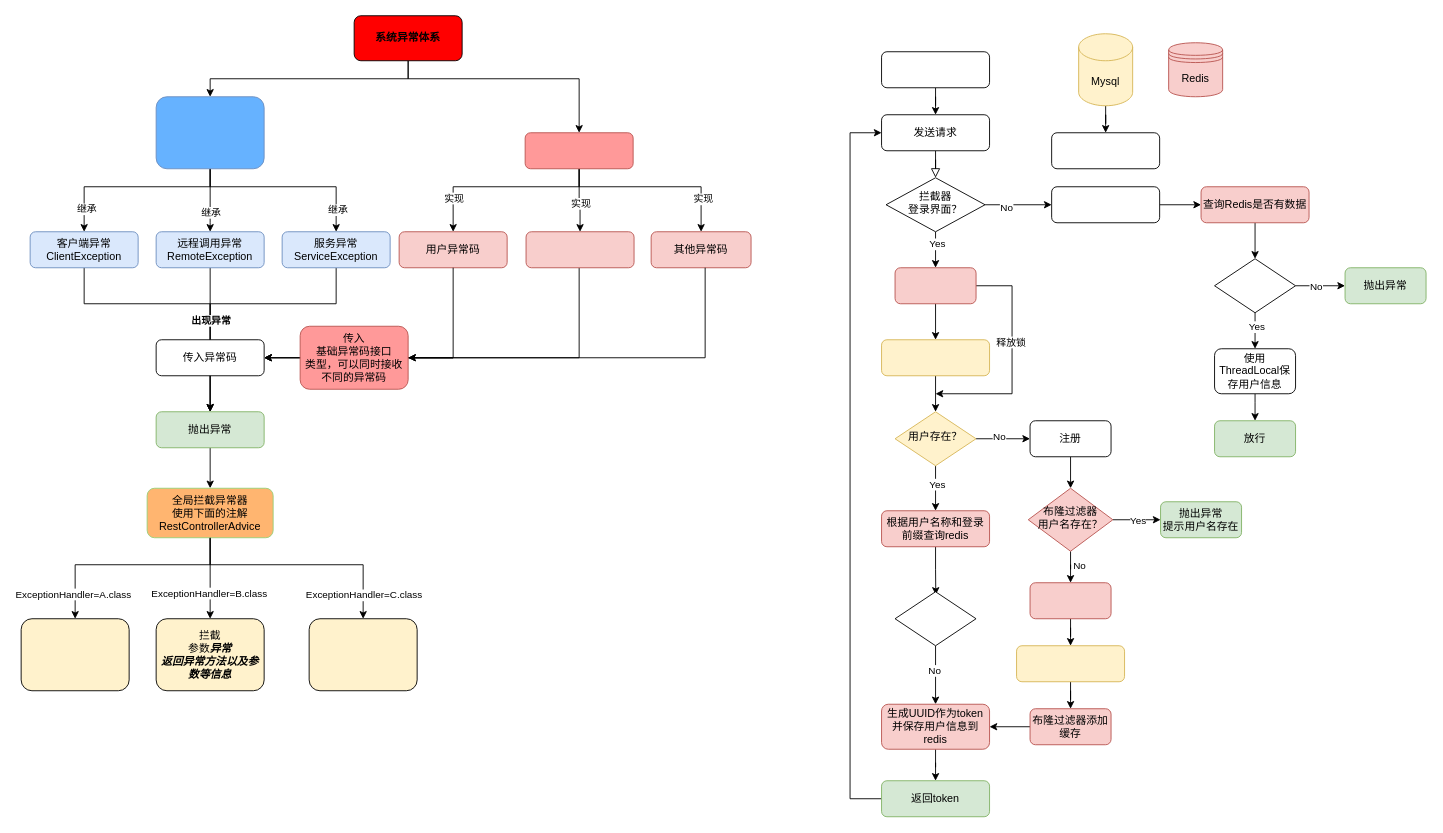
The diagram is 1443 pixels wide and 833 high, and some of its shapes have lost their labels. Here are the shapes that lost their labels. From the top down, the centre of each, then its label:
At [935,69]: "用户功能模块".
At [209,132]: "抽象异常 所有异常的父类 异常码 异常信息 AbstracException".
At [578,150]: "基础异常码接口".
At [1105,150]: "基于sharding-phere 用户数据分表".
At [1105,204]: "获取请求头中的token以及username信息".
At [579,249]: "基础异常码".
At [935,285]: "获取分布式锁 防止恶意登录".
At [1255,285]: "存在？".
At [935,357]: "根据用户名 密码查询用户".
At [935,618]: "redis中已存在？".
At [1070,600]: "获取分布式锁 防止恶意注册".
At [74,654]: "拦截 AbstracException 以及子类异常 返回异常信息 对用户以及开发友好".
At [362,654]: "拦截 未知异常 可能出现未知错误".
At [1070,663]: "数据库插入用户信息".
